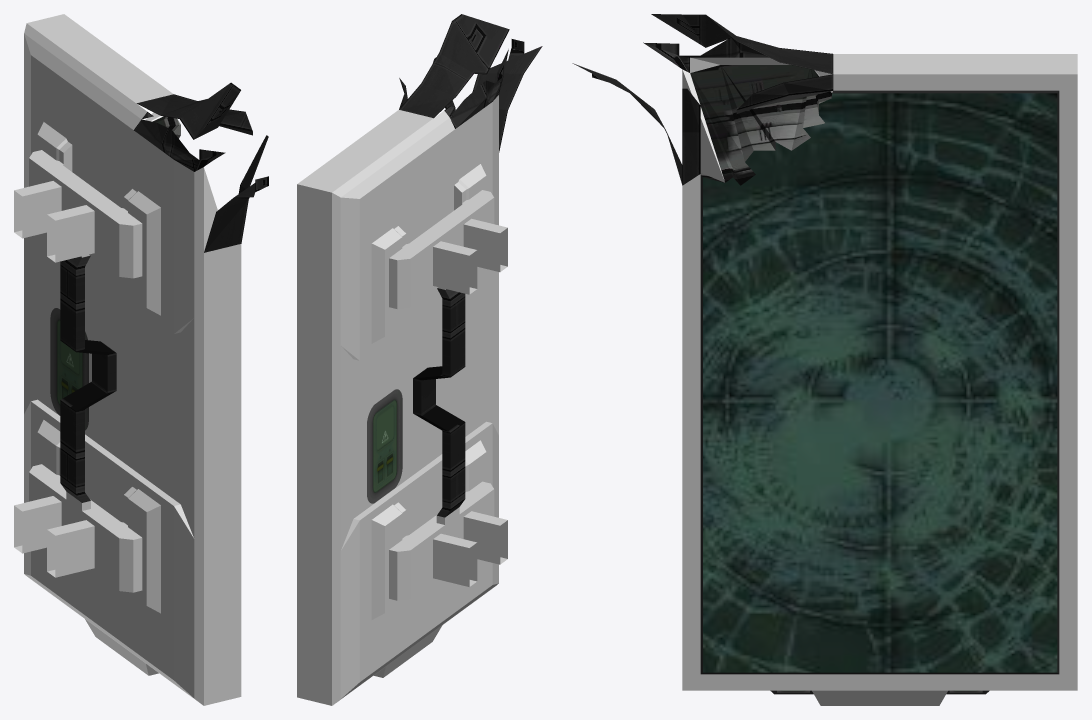
Rendered from future-sign-broken.obj.
3 renders of one model, left to right at view 1: azimuth 30°, elevation 25°; view 2: azimuth 150°, elevation 25°; view 3: azimuth 270°, elevation 25°, orthographic. The views are drawn at different scales.
Parts seen in each view (by area): view 1: Mesh1 NM_Sign_Variety_C1 NM_Sign_Phucked1 Model, Mesh2 NM_Sign_Variety_C1 NM_Sign_Phucked1 Model; view 2: Mesh1 NM_Sign_Variety_C1 NM_Sign_Phucked1 Model, Mesh2 NM_Sign_Variety_C1 NM_Sign_Phucked1 Model; view 3: Mesh1 NM_Sign_Variety_C1 NM_Sign_Phucked1 Model.
Part boxes in pixels (left/top/right/bottom): Mesh1 NM_Sign_Variety_C1 NM_Sign_Phucked1 Model: left=14, top=14, right=268, bottom=705; Mesh2 NM_Sign_Variety_C1 NM_Sign_Phucked1 Model: left=50, top=308, right=88, bottom=430; Mesh1 NM_Sign_Variety_C1 NM_Sign_Phucked1 Model: left=297, top=14, right=542, bottom=705; Mesh2 NM_Sign_Variety_C1 NM_Sign_Phucked1 Model: left=367, top=389, right=402, bottom=503; Mesh1 NM_Sign_Variety_C1 NM_Sign_Phucked1 Model: left=572, top=14, right=1077, bottom=705.
Size of the model in its own units: 1.8 by 6.97 by 4.6.
